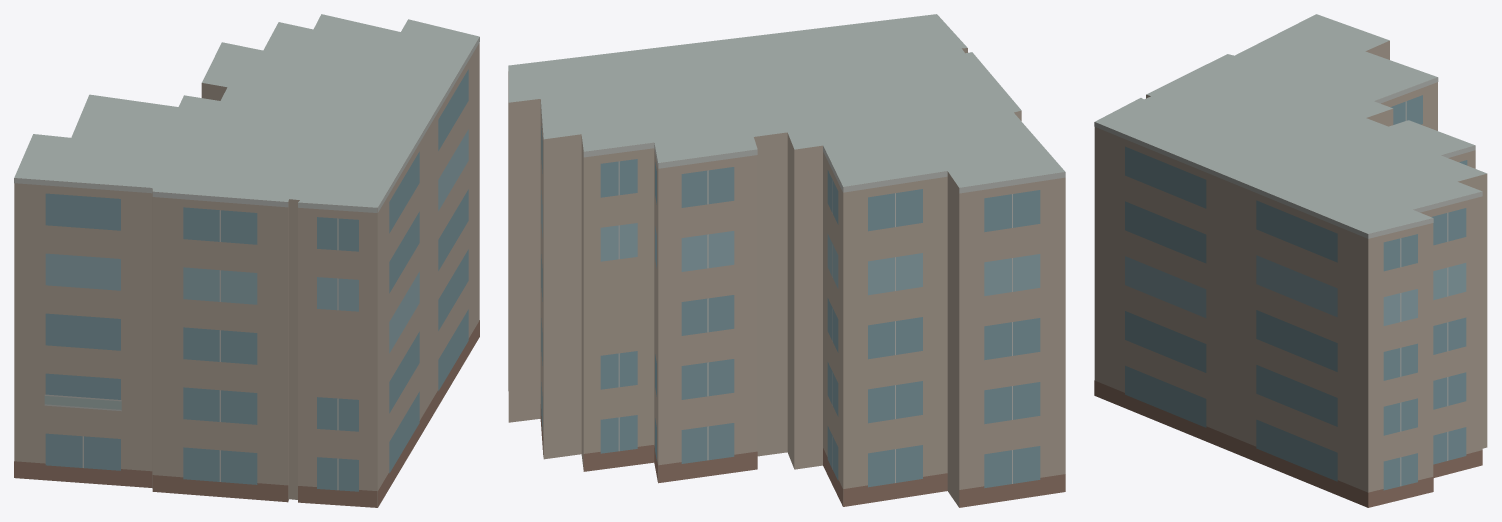
File: survey-upis-32646673.glb
3 renders of one model, left to right at view 1: azimuth 30°, elevation 25°; view 2: azimuth 150°, elevation 25°; view 3: azimuth 270°, elevation 25°, orthographic. The views are drawn at different scales.
Visible parts, largest first — view 1: survey-upis-32646673.tmp; view 2: survey-upis-32646673.tmp; view 3: survey-upis-32646673.tmp.
Boxes of the visible parts, x1=… form: survey-upis-32646673.tmp: x1=14, y1=14, x2=479, y2=507; survey-upis-32646673.tmp: x1=508, y1=14, x2=1065, y2=507; survey-upis-32646673.tmp: x1=1094, y1=14, x2=1487, y2=507.
Bounding box in the file's own units: 23.79 × 13.8 × 17.95.
